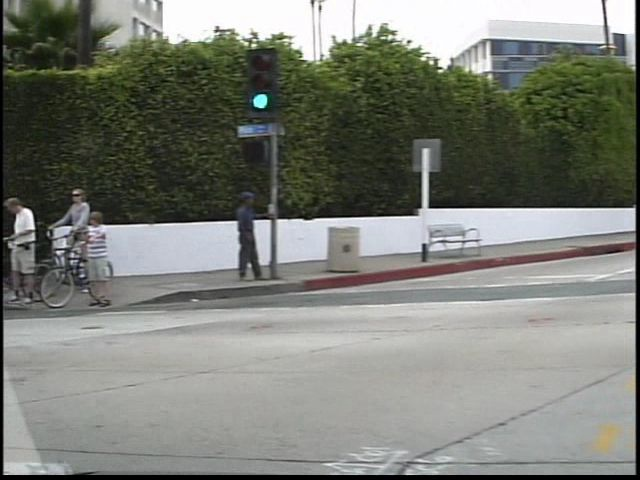person: (59, 190, 116, 307), (3, 179, 41, 311)
